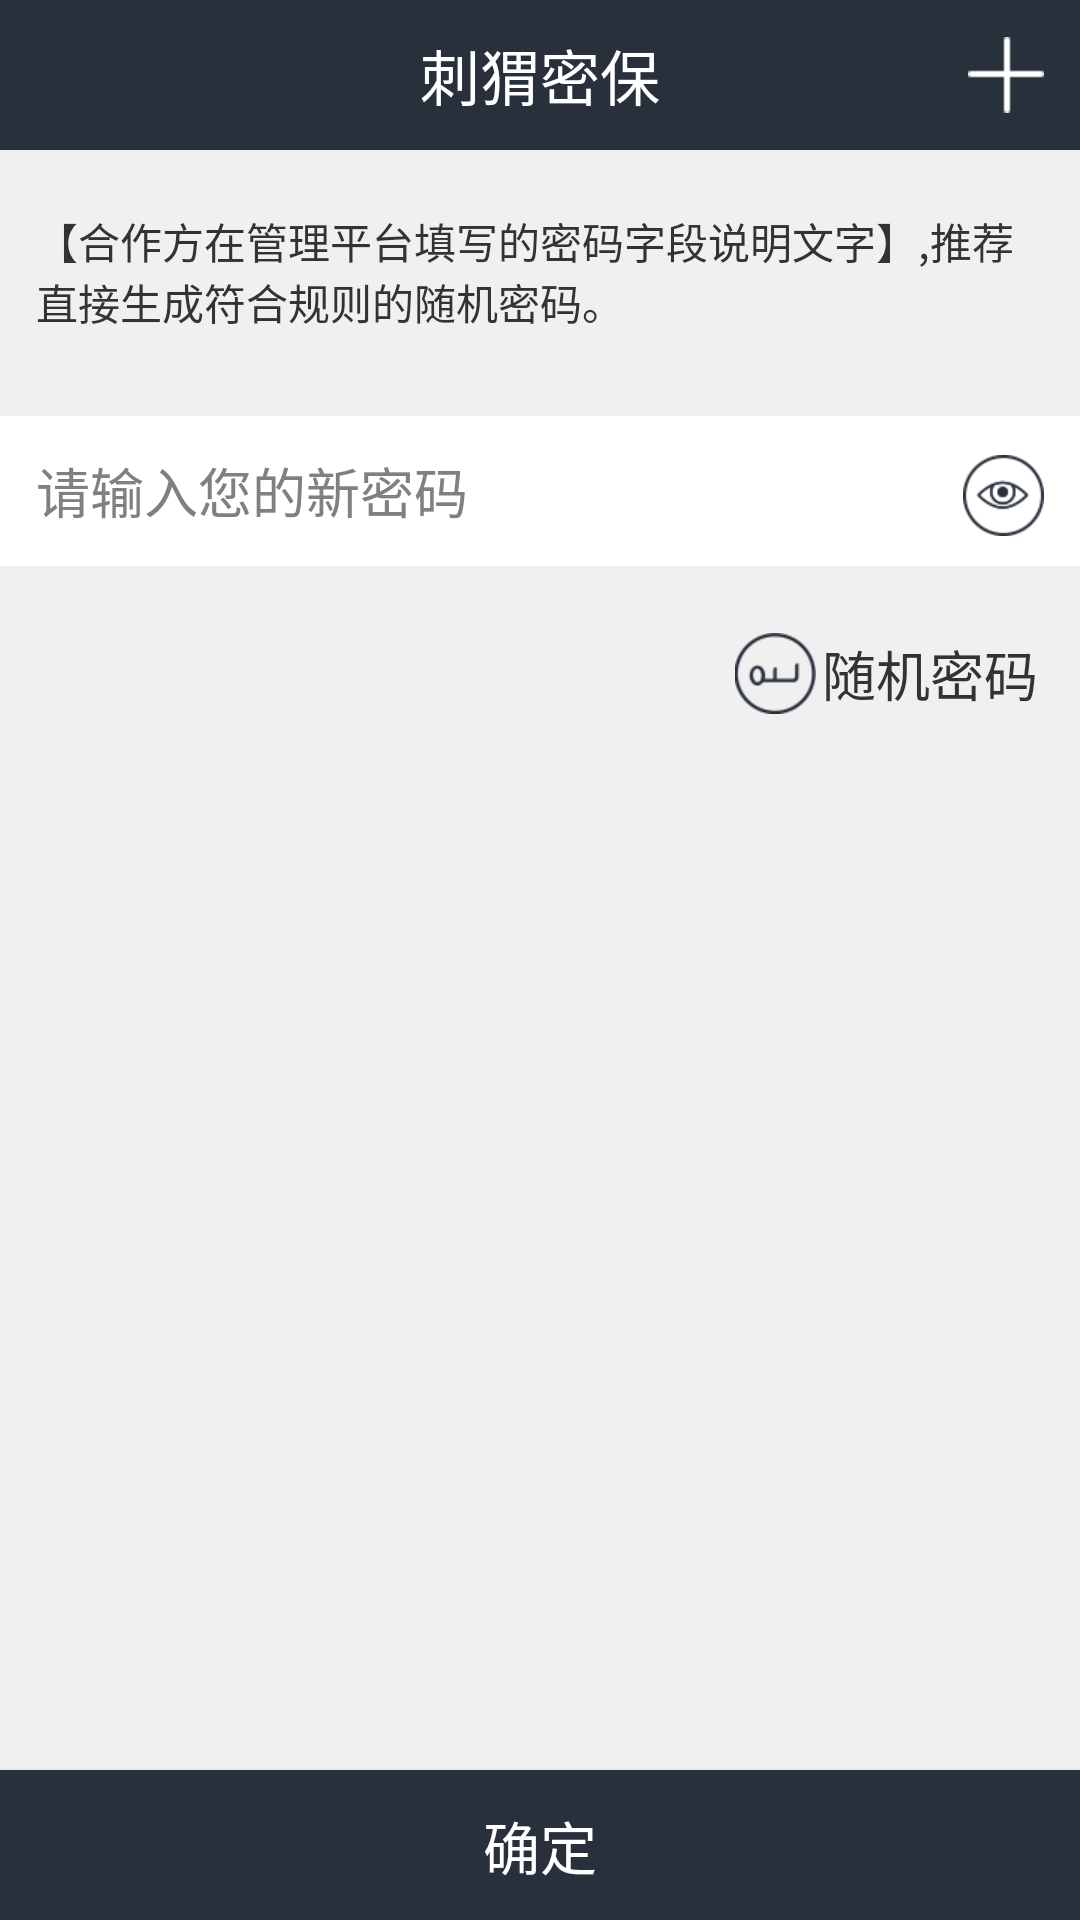

Icons on this 1080w x 1920h Android screen, each with its box as BBox(x1, y1, x2, y2):
eye see: BBox(963, 455, 1044, 536)
home add: BBox(968, 37, 1044, 113)
